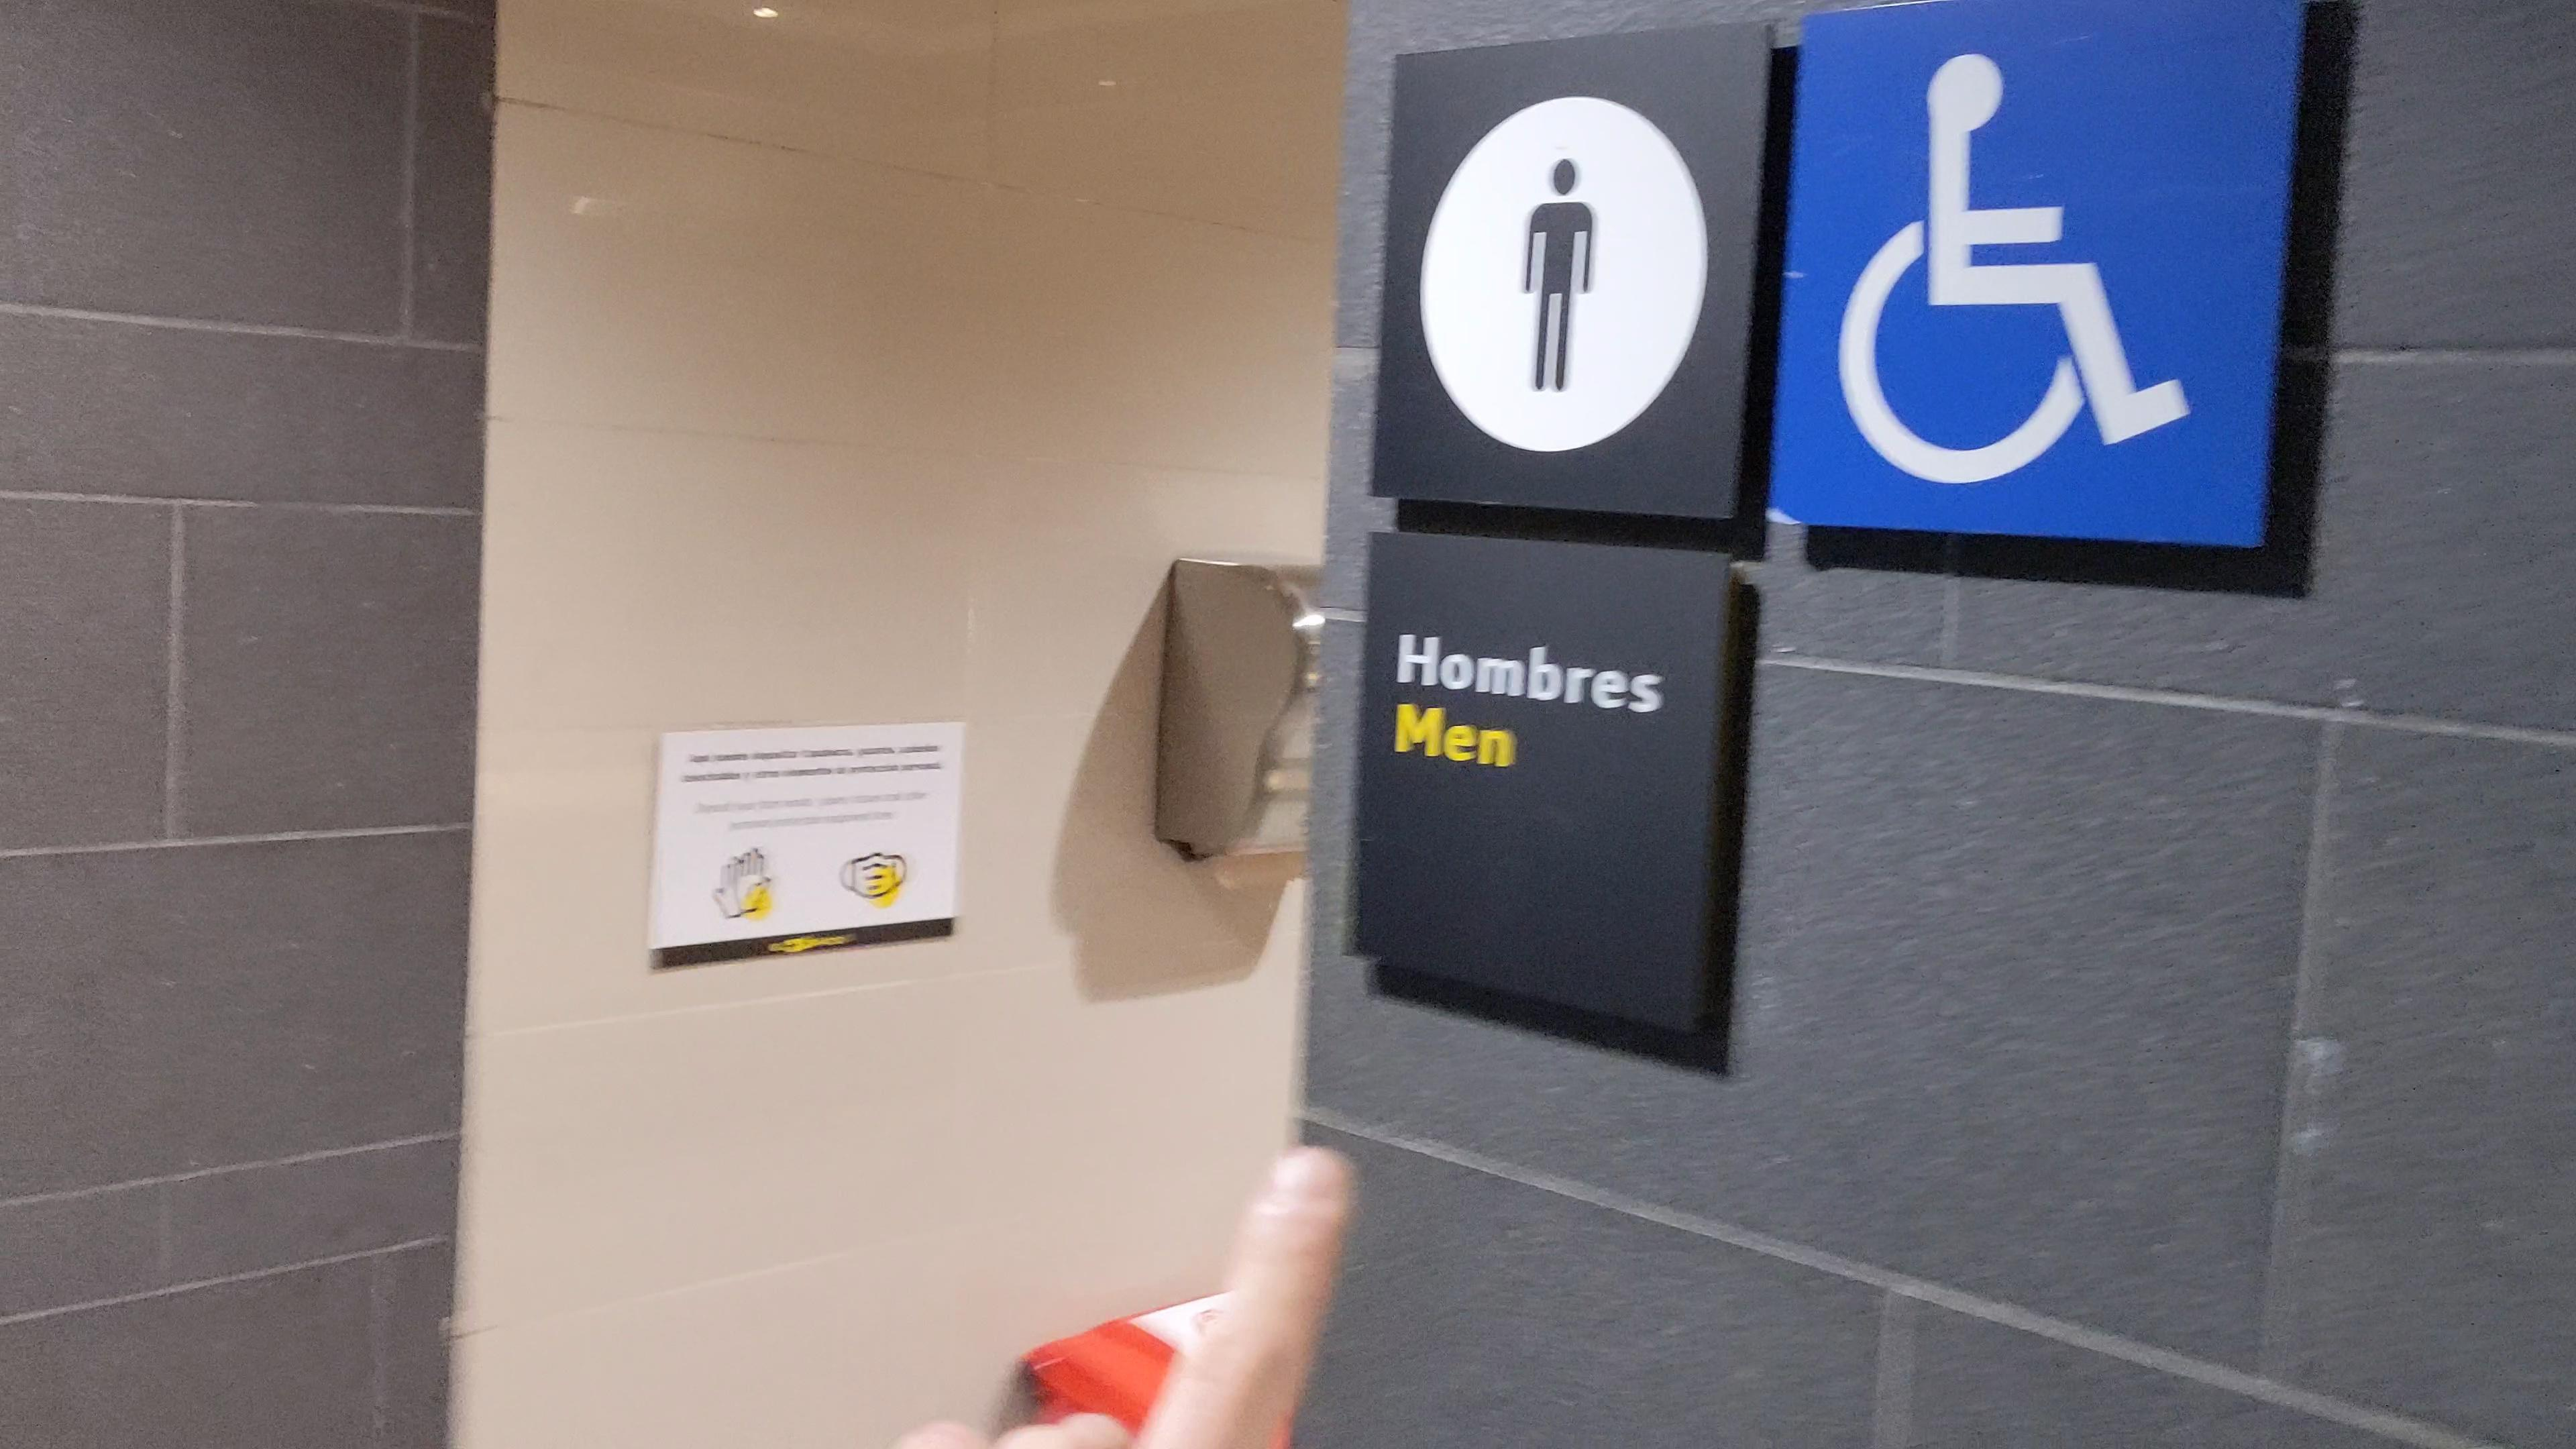handicapped symbol: (1833, 48, 2194, 490)
